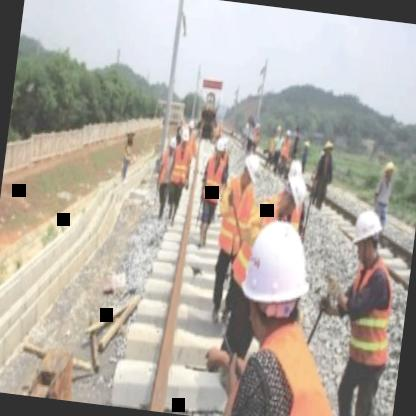helmet: (230, 214, 324, 344), (347, 203, 386, 266), (278, 170, 310, 214), (235, 152, 262, 192), (210, 134, 227, 162), (176, 127, 191, 153)
